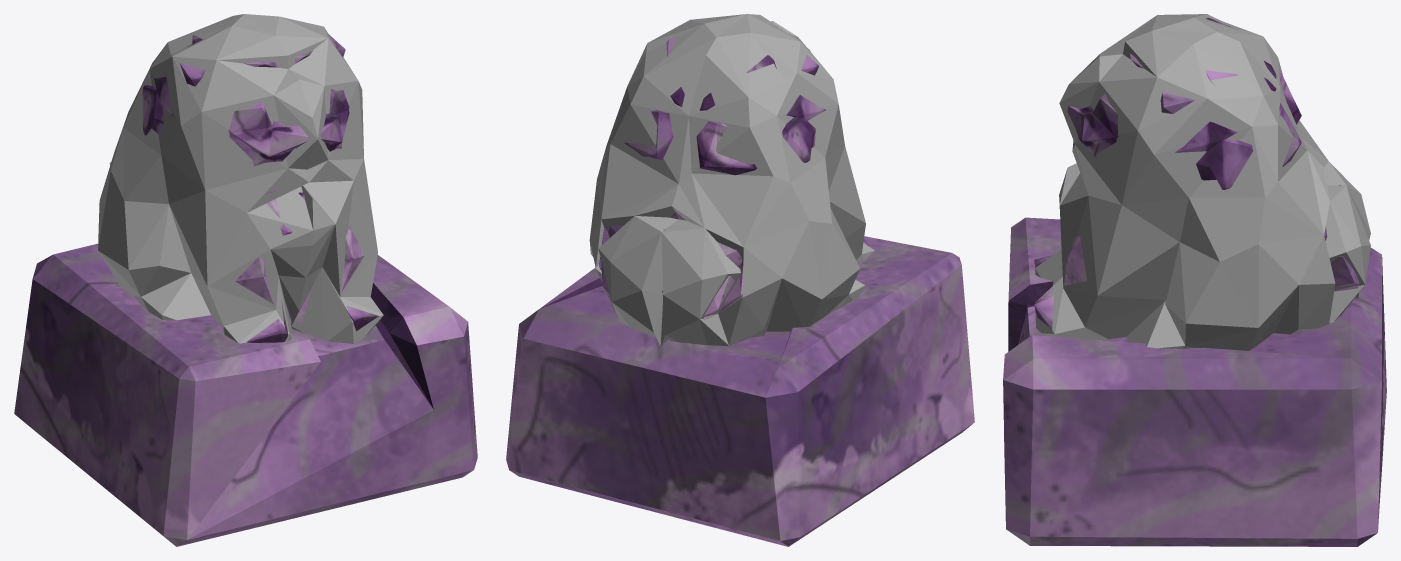
The model's file is Str_Ruins_02_Art.fbx.
3 renders of one model, left to right at view 1: azimuth 30°, elevation 25°; view 2: azimuth 150°, elevation 25°; view 3: azimuth 270°, elevation 25°, orthographic. The views are drawn at different scales.
Parts seen in each view (by area): view 1: Str_Ruins_02_StoneOutline, Str_Ruins_02; view 2: Str_Ruins_02_StoneOutline, Str_Ruins_02; view 3: Str_Ruins_02_StoneOutline, Str_Ruins_02.
Part boxes in pixels (x1,y1,x2,y2): Str_Ruins_02_StoneOutline: [14, 243, 477, 546]; Str_Ruins_02: [98, 14, 383, 343]; Str_Ruins_02_StoneOutline: [506, 236, 974, 546]; Str_Ruins_02: [589, 14, 874, 346]; Str_Ruins_02_StoneOutline: [1003, 217, 1386, 546]; Str_Ruins_02: [1034, 14, 1370, 350].
Size of what is drawn, in the model's own units: 195 by 253 by 196.
